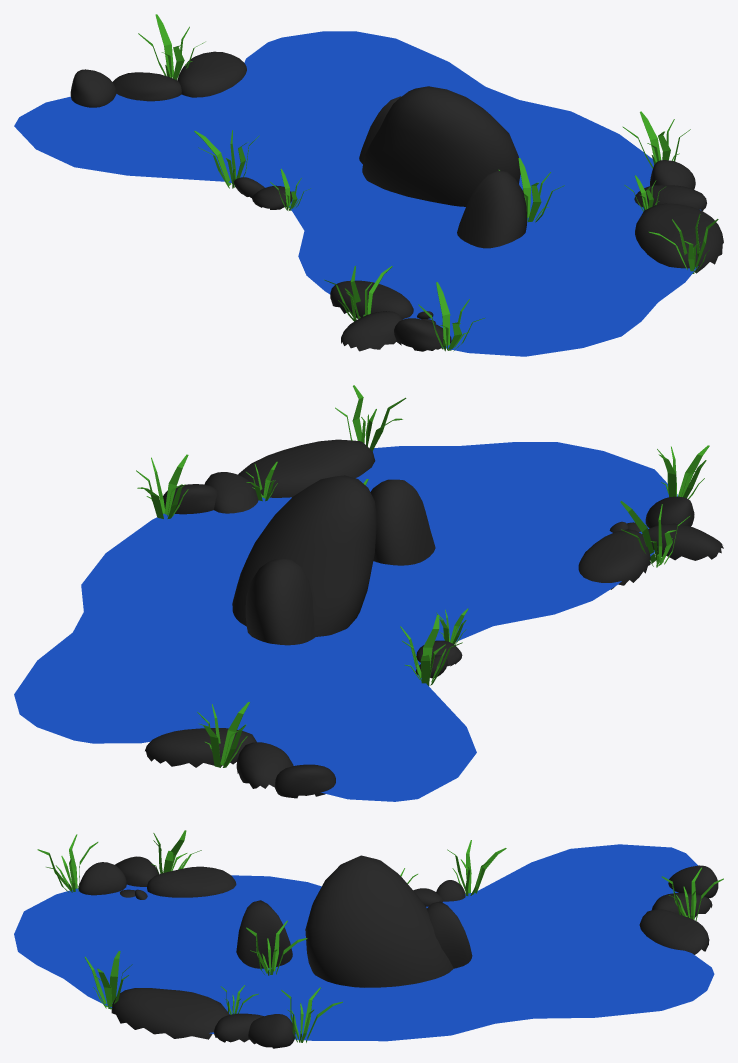
Rendered from pond_1.FBX.
The picture shows the model from 3 angles, top to bottom: view 1: azimuth 30°, elevation 25°; view 2: azimuth 150°, elevation 25°; view 3: azimuth 270°, elevation 25°; orthographic projection. The views are drawn at different scales.
Visible parts, largest first — view 1: Plane002, pond_1, Grass_008; view 2: Plane002, pond_1, Grass_008; view 3: Plane002, pond_1, Grass_008.
Boxes of the visible parts, x1,y1,x2,y2 form: Plane002: (14,31,701,356); pond_1: (70,51,723,351); Grass_008: (138,14,718,351); Plane002: (14,442,677,801); pond_1: (145,439,723,798); Grass_008: (136,385,709,767); Plane002: (14,844,714,1041); pond_1: (78,855,718,1048); Grass_008: (37,830,723,1042).
Size of the model in its own units: 27.95 by 7.46 by 41.23.
